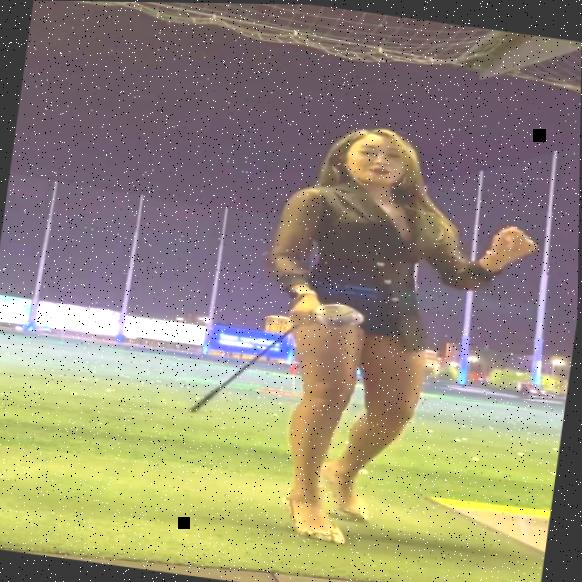ClubHead: (306, 299, 365, 331)
GolfBall: (358, 466, 372, 474)
